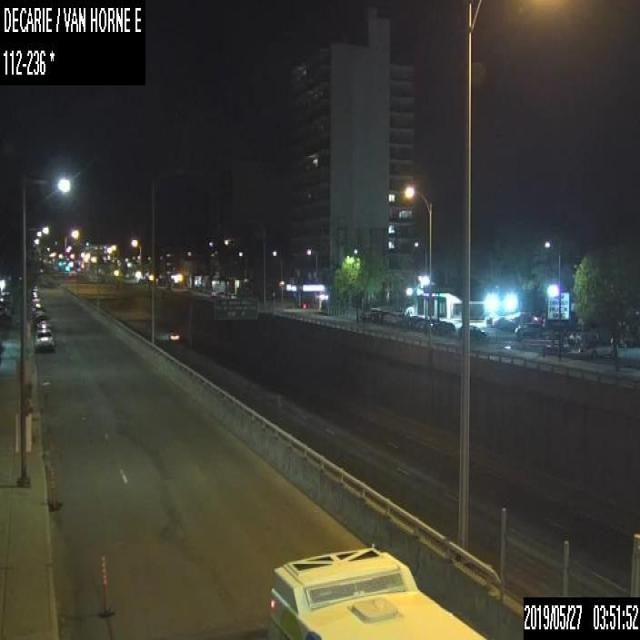bus: (265, 544, 487, 639)
construction: (96, 555, 113, 616), (50, 467, 61, 509)
vehicle: (581, 338, 618, 358), (34, 327, 54, 349), (457, 325, 485, 339), (514, 321, 538, 337), (430, 320, 454, 334), (35, 313, 51, 328), (168, 328, 180, 339)
